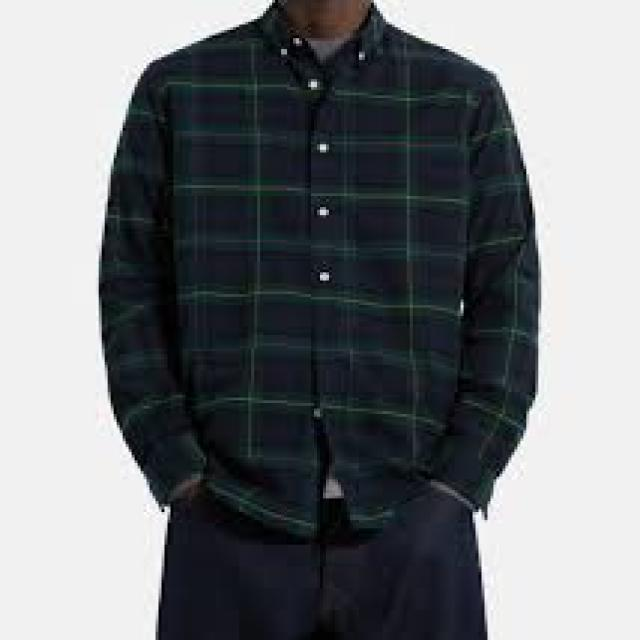plaid: (102, 6, 552, 532)
